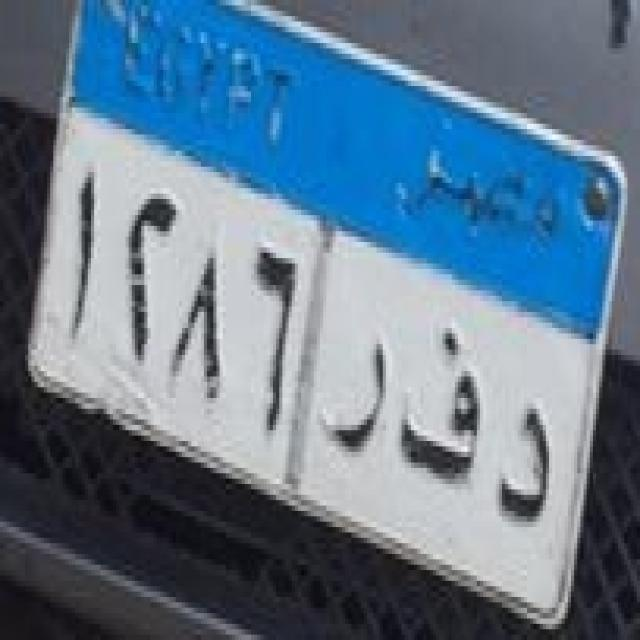1: (50, 156, 119, 353)
2: (110, 177, 190, 378)
6: (235, 238, 312, 443)
8: (163, 222, 241, 418)
F: (390, 306, 499, 509)
R: (324, 319, 394, 474)
alef: (574, 0, 637, 59)
daal: (490, 388, 568, 540)
